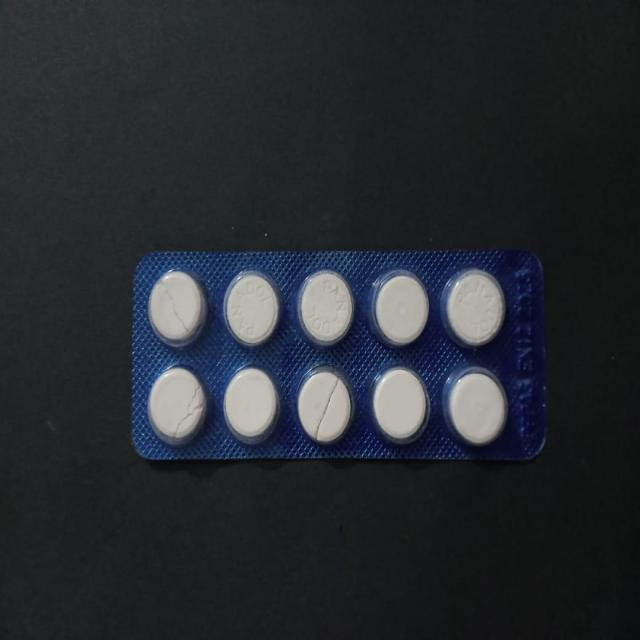defect: (147, 361, 212, 446), (146, 266, 209, 350), (294, 365, 358, 445)
